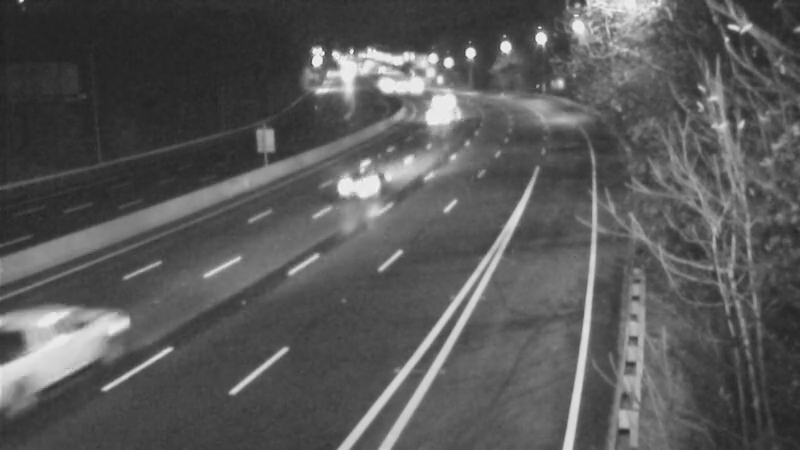vehicle: (1, 287, 108, 397), (316, 147, 396, 227), (361, 60, 411, 110), (392, 61, 442, 111), (374, 61, 424, 111), (418, 76, 468, 126), (415, 93, 465, 143)
